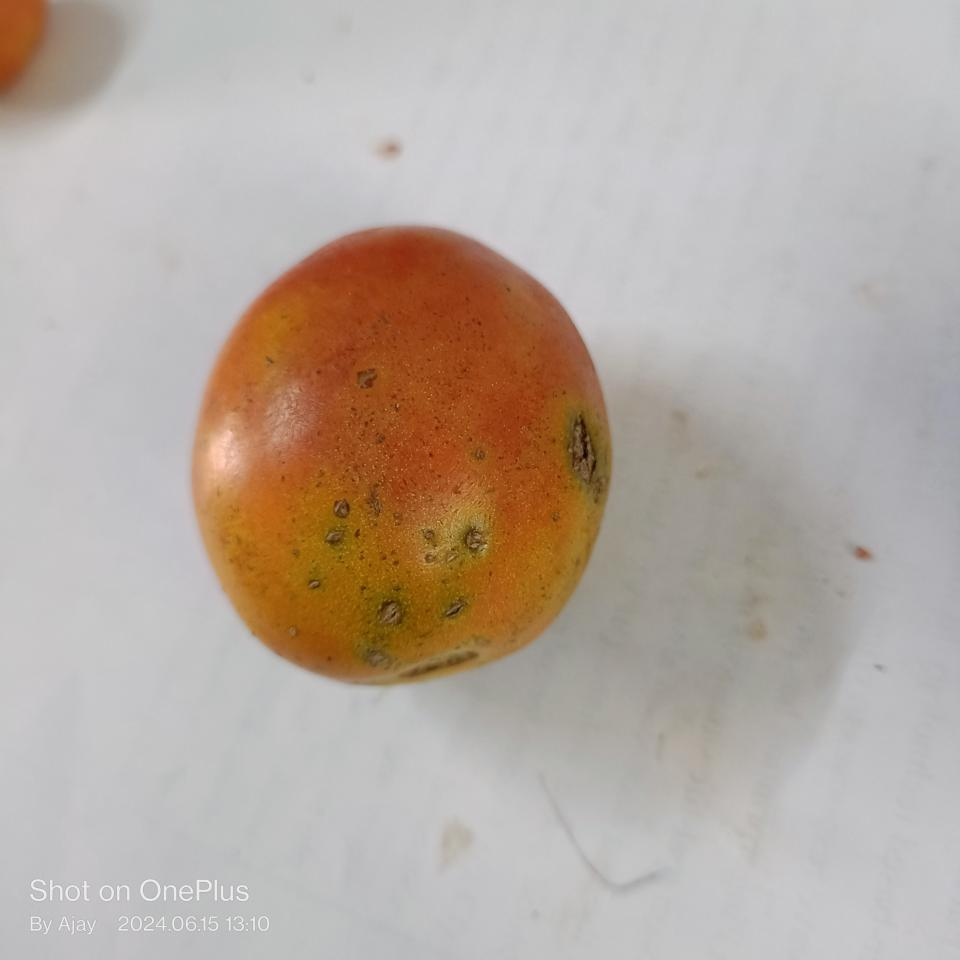Bacterial_Spot: (559, 416, 603, 500), (318, 495, 354, 548), (458, 518, 494, 560), (374, 592, 406, 630), (354, 361, 376, 400)
